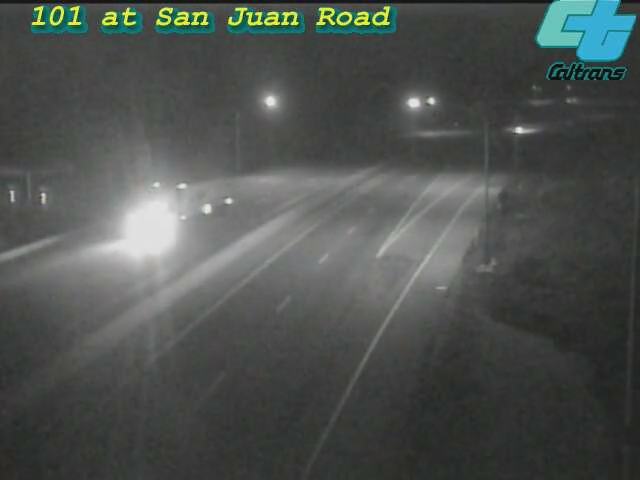vehicle: (129, 169, 209, 249), (497, 106, 547, 156)
